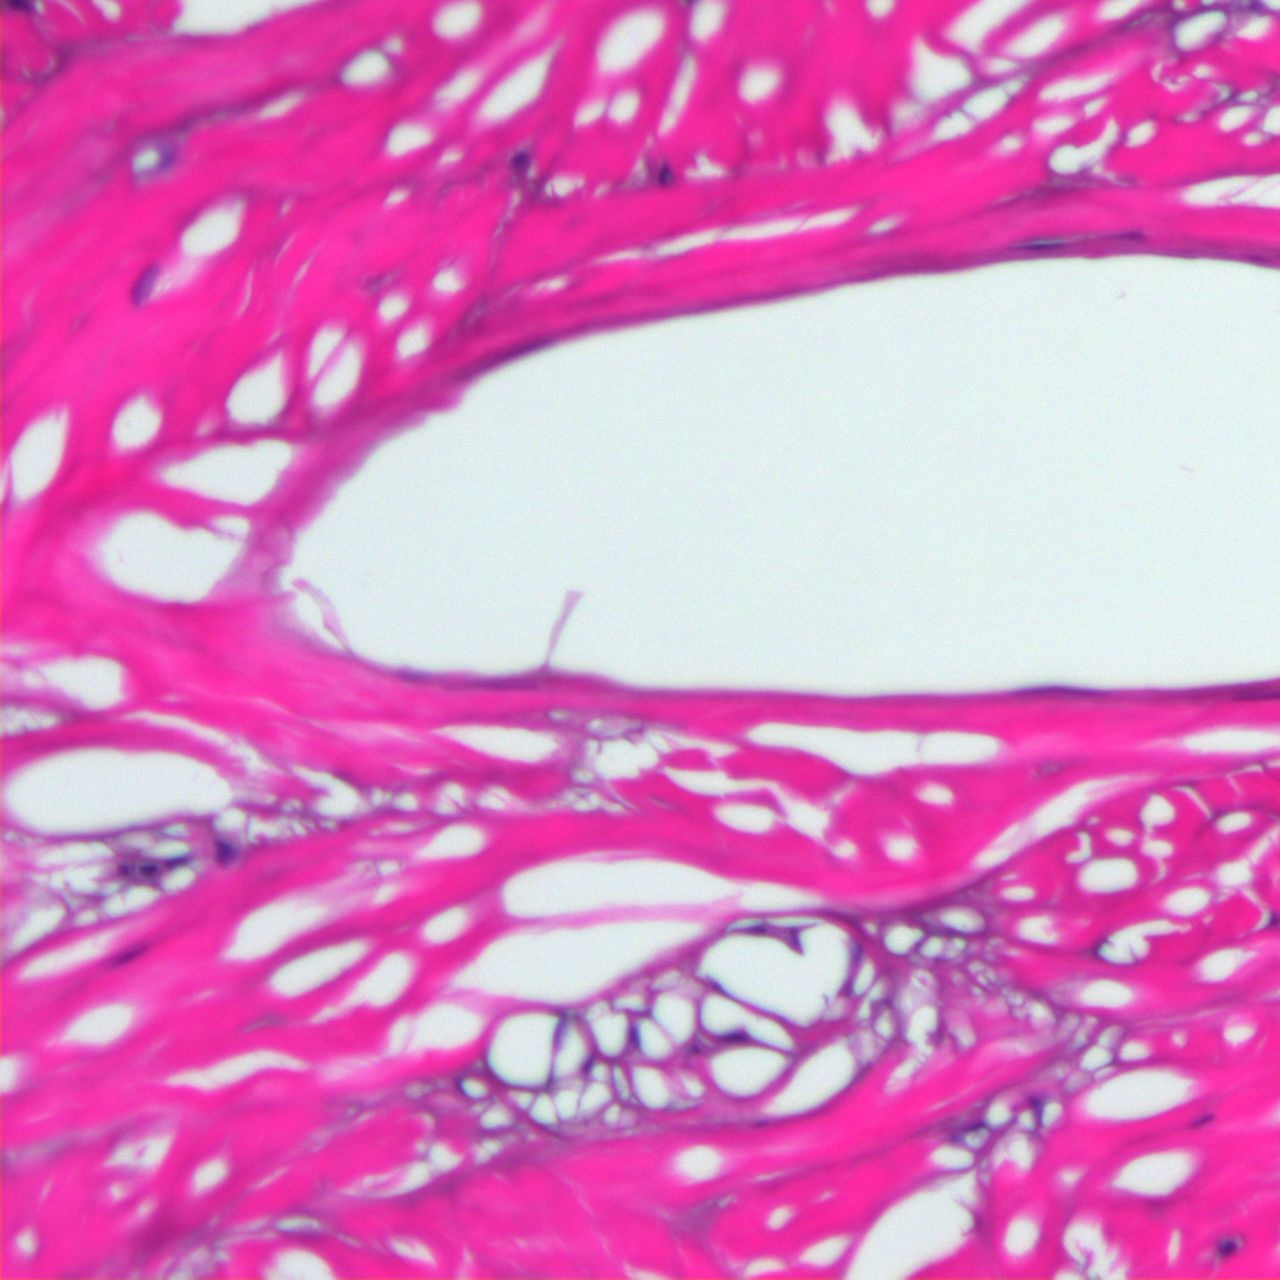nucleus-HE: (1184, 1105, 1218, 1134), (548, 1013, 570, 1050), (575, 1047, 602, 1077), (214, 840, 237, 867), (165, 851, 193, 871), (510, 148, 531, 174), (1215, 1235, 1238, 1258), (718, 1028, 751, 1043), (734, 924, 768, 936), (787, 924, 801, 953), (658, 161, 673, 185), (628, 1021, 639, 1048), (139, 863, 160, 876), (116, 861, 131, 876), (1268, 911, 1279, 928)
